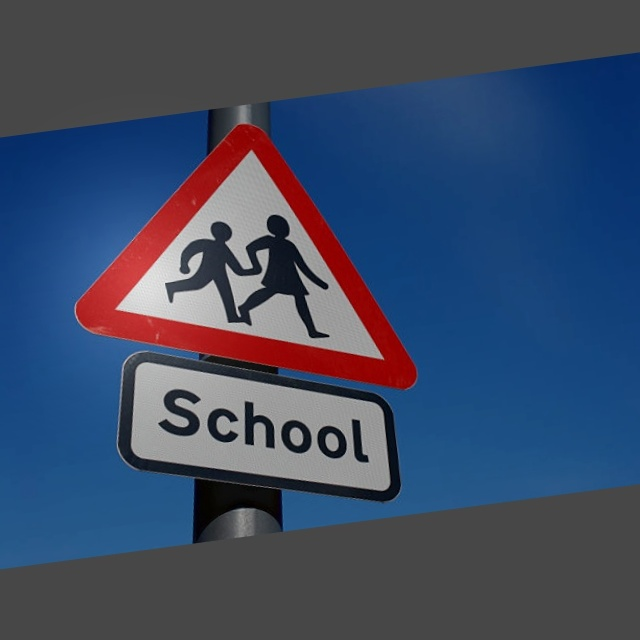School_Ahead: (58, 91, 434, 417)
